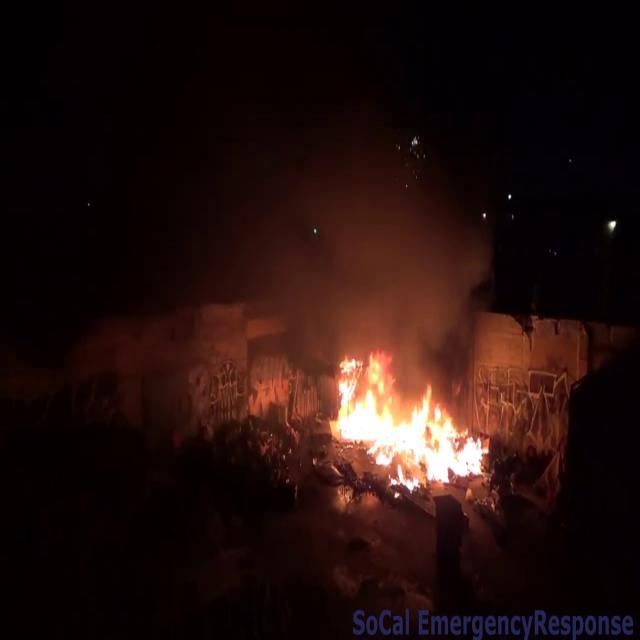Fire: (320, 354, 492, 488)
Smoke: (115, 60, 506, 374)
